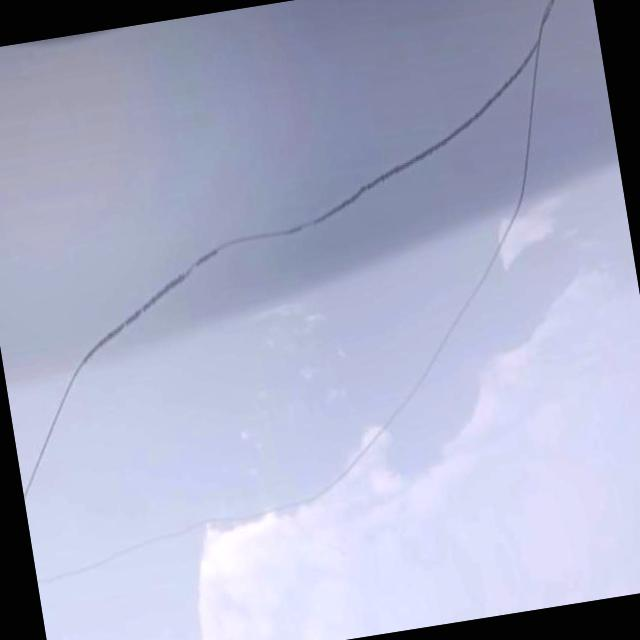crack: (0, 25, 588, 498), (26, 457, 385, 640)
